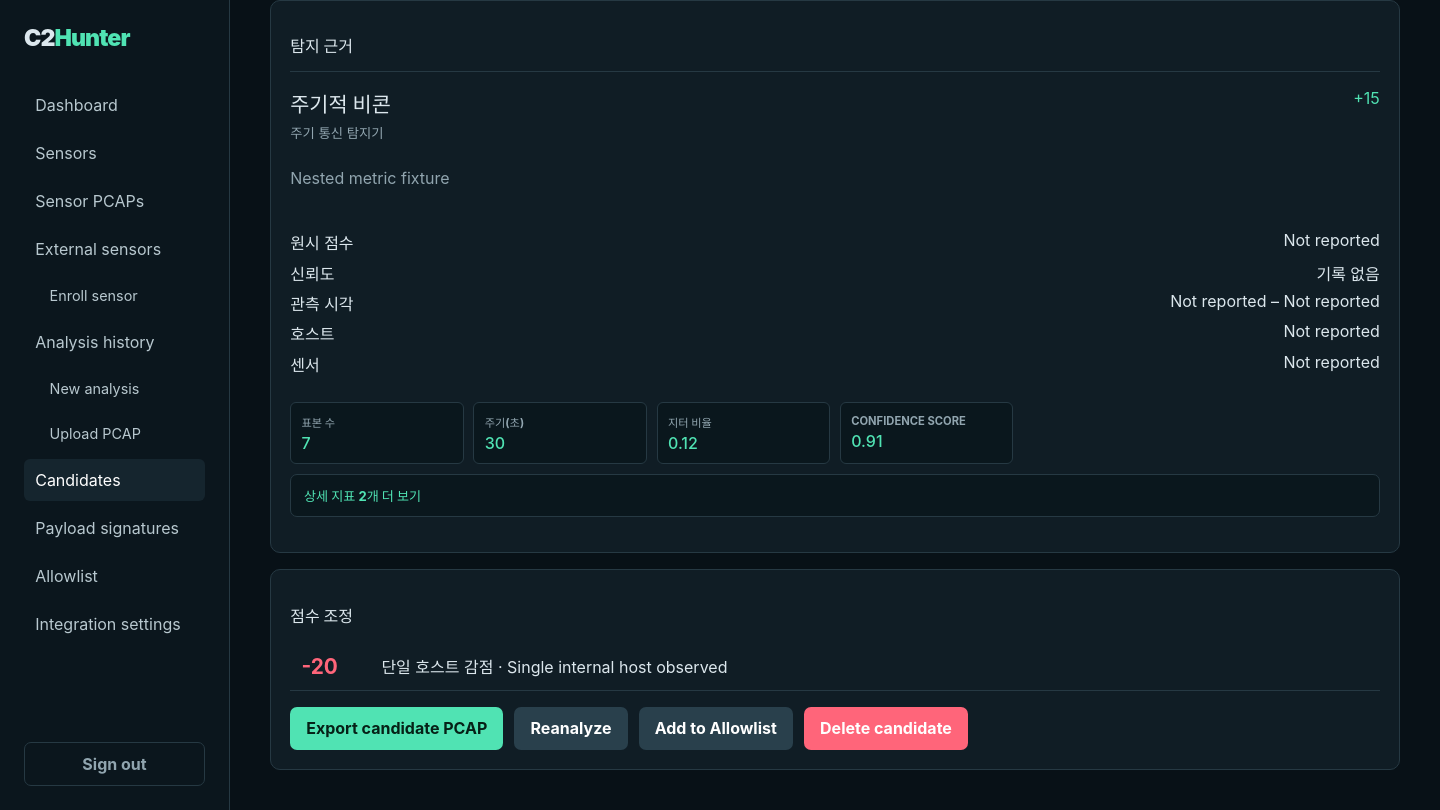
Scenario: C2Hunter UI › summarizes long detector metrics and reveals structured details on demand
(page scrolled)
Expected: the heading "탐지 근거" is shown, [290,36,353,56]
Expected: the element titled "sample_count" is shown, [290,402,464,464]
Click the heading "상세 지표 2개 더 보기" at {"x": 363, "y": 496}, box [304,488,421,504]
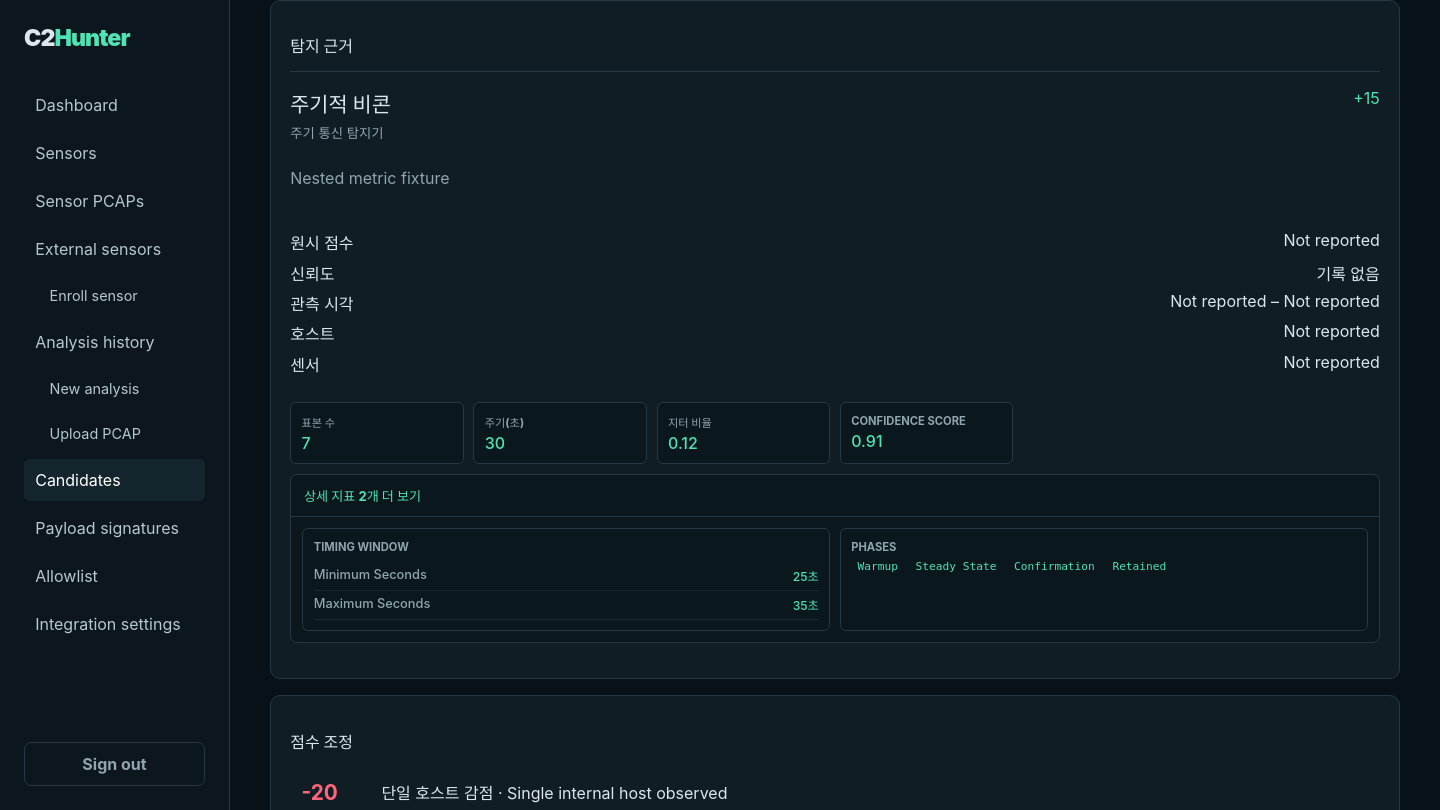
Now the text "Timing Window" is shown, box [314,540,409,554]
Now the text "Minimum Seconds" is shown, box [314,562,522,591]
Now the text "25초" is shown, box [793,569,819,584]
